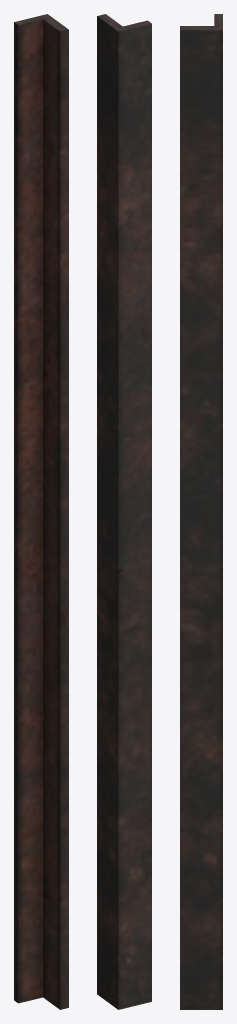
The model's file is SideBar_Storage.FBX.
3 views of the same model, side by side, from view 1: azimuth 30°, elevation 25°; view 2: azimuth 210°, elevation 25°; view 3: azimuth 270°, elevation 25° (orthographic).
Parts seen in each view (by area): view 1: SideBar_Storage; view 2: SideBar_Storage; view 3: SideBar_Storage.
Boxes of the visible parts, x1,y1,x2,y2 form: SideBar_Storage: [14, 14, 68, 1009]; SideBar_Storage: [97, 14, 151, 1009]; SideBar_Storage: [180, 14, 222, 1009].
Bounding box in the file's own units: 7.95 × 222 × 8.79.
